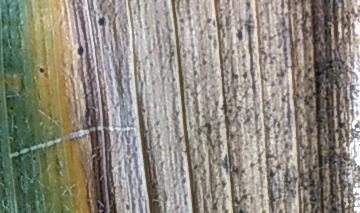tarspot: (97, 15, 107, 28), (236, 28, 243, 42), (77, 45, 84, 58), (337, 121, 347, 129), (38, 66, 46, 74), (7, 105, 16, 112), (237, 208, 245, 213)
